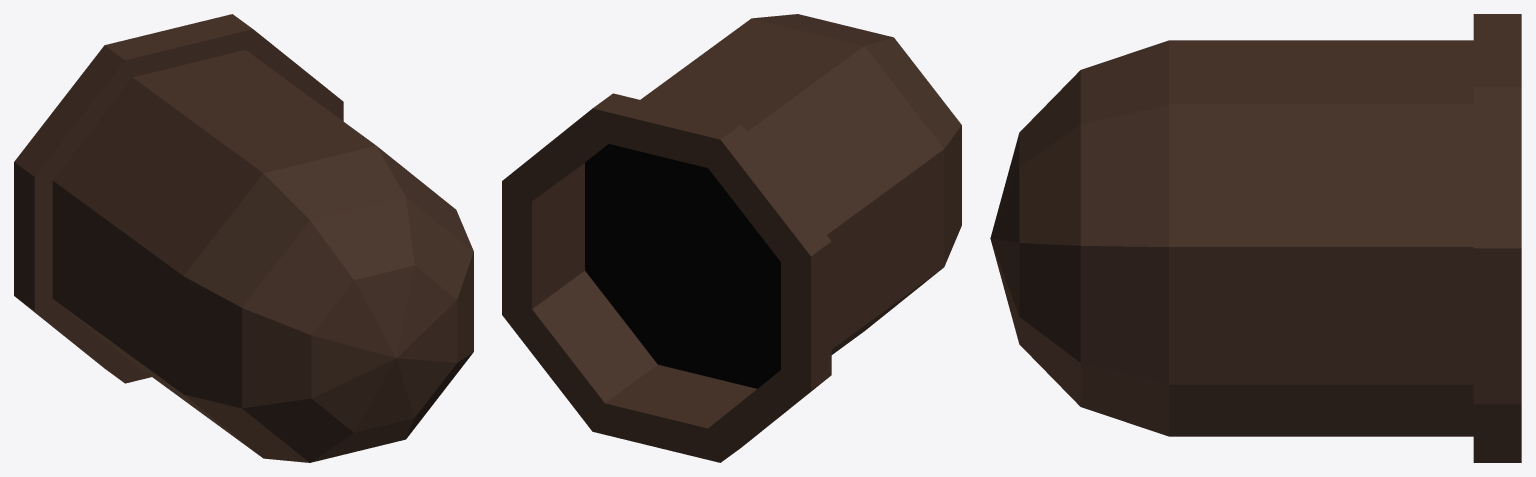
Rendered from PipeEndConnect.fbx.
The picture shows the model from 3 angles, left to right: view 1: azimuth 30°, elevation 25°; view 2: azimuth 150°, elevation 25°; view 3: azimuth 270°, elevation 25°; orthographic projection. The views are drawn at different scales.
Visible parts, largest first — view 1: Cylinder.018; view 2: Cylinder.018; view 3: Cylinder.018.
Part boxes in pixels (x1,y1,x2,y2): Cylinder.018: (14, 14, 473, 462); Cylinder.018: (502, 14, 961, 462); Cylinder.018: (990, 14, 1521, 462).
Bounding box in the file's own units: 36.71 × 36.71 × 46.96.
